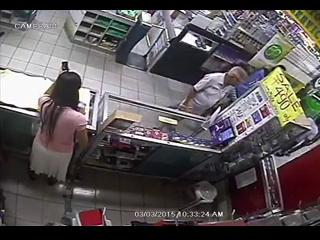Normal: (28, 66, 91, 195), (177, 66, 249, 116)
